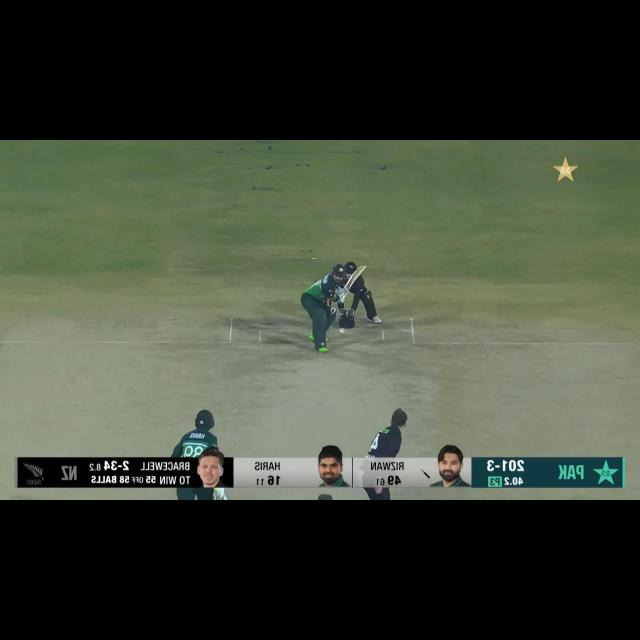bat: (346, 265, 367, 288)
toe: (358, 265, 367, 270)
